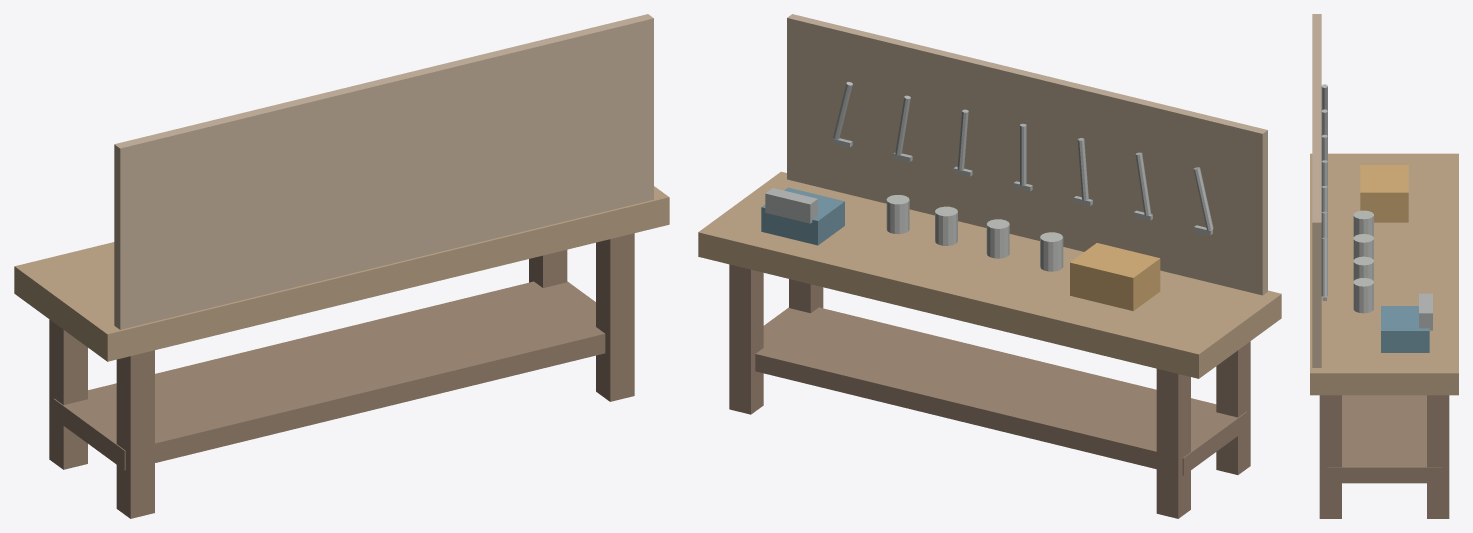
File: workbench.glb
3 renders of one model, left to right at view 1: azimuth 30°, elevation 25°; view 2: azimuth 150°, elevation 25°; view 3: azimuth 270°, elevation 25°, orthographic. The views are drawn at different scales.
Visible parts, largest first — view 1: pegboard, lowerShelf, top, leg-1.28_0.31, leg1.28_0.31, leg-1.28_-0.31, leg1.28_-0.31; view 2: pegboard, top, lowerShelf, leg-1.28_-0.31, leg1.28_-0.31, powerTool, leg-1.28_0.31, viseBody, viseJaw, leg1.28_0.31, can0, can1 (+2 smaller); view 3: top, lowerShelf, pegboard, powerTool, leg1.28_-0.31, leg1.28_0.31, viseBody, can3, viseJaw, can0, can1, can2 (+1 smaller).
Boxes of the visible parts, bbox=[...] form: pegboard: bbox=[114, 14, 653, 329]; lowerShelf: bbox=[53, 281, 605, 470]; top: bbox=[14, 186, 669, 361]; leg-1.28_0.31: bbox=[116, 350, 154, 518]; leg1.28_0.31: bbox=[596, 233, 634, 401]; leg-1.28_-0.31: bbox=[49, 319, 87, 469]; leg1.28_-0.31: bbox=[529, 250, 567, 287]; pegboard: bbox=[787, 14, 1267, 295]; top: bbox=[698, 171, 1281, 378]; lowerShelf: bbox=[755, 307, 1246, 475]; leg-1.28_-0.31: bbox=[1156, 369, 1190, 518]; leg1.28_-0.31: bbox=[729, 264, 763, 414]; powerTool: bbox=[1070, 243, 1160, 311]; leg-1.28_0.31: bbox=[1216, 341, 1250, 474]; viseBody: bbox=[761, 187, 844, 245]; viseJaw: bbox=[765, 188, 817, 223]; leg1.28_0.31: bbox=[789, 279, 823, 313]; can0: bbox=[1040, 232, 1063, 271]; can1: bbox=[986, 219, 1009, 258]; top: bbox=[1310, 153, 1458, 395]; lowerShelf: bbox=[1327, 395, 1441, 483]; pegboard: bbox=[1312, 14, 1321, 367]; powerTool: bbox=[1360, 165, 1408, 222]; leg1.28_-0.31: bbox=[1427, 395, 1449, 518]; leg1.28_0.31: bbox=[1319, 395, 1341, 518]; viseBody: bbox=[1381, 306, 1429, 352]; can3: bbox=[1353, 278, 1373, 313]; viseJaw: bbox=[1419, 293, 1432, 330]; can0: bbox=[1353, 210, 1373, 236]; can1: bbox=[1353, 234, 1373, 259]; can2: bbox=[1353, 256, 1373, 280].
Bounding box in the file's own units: 3 × 1.92 × 0.86.
